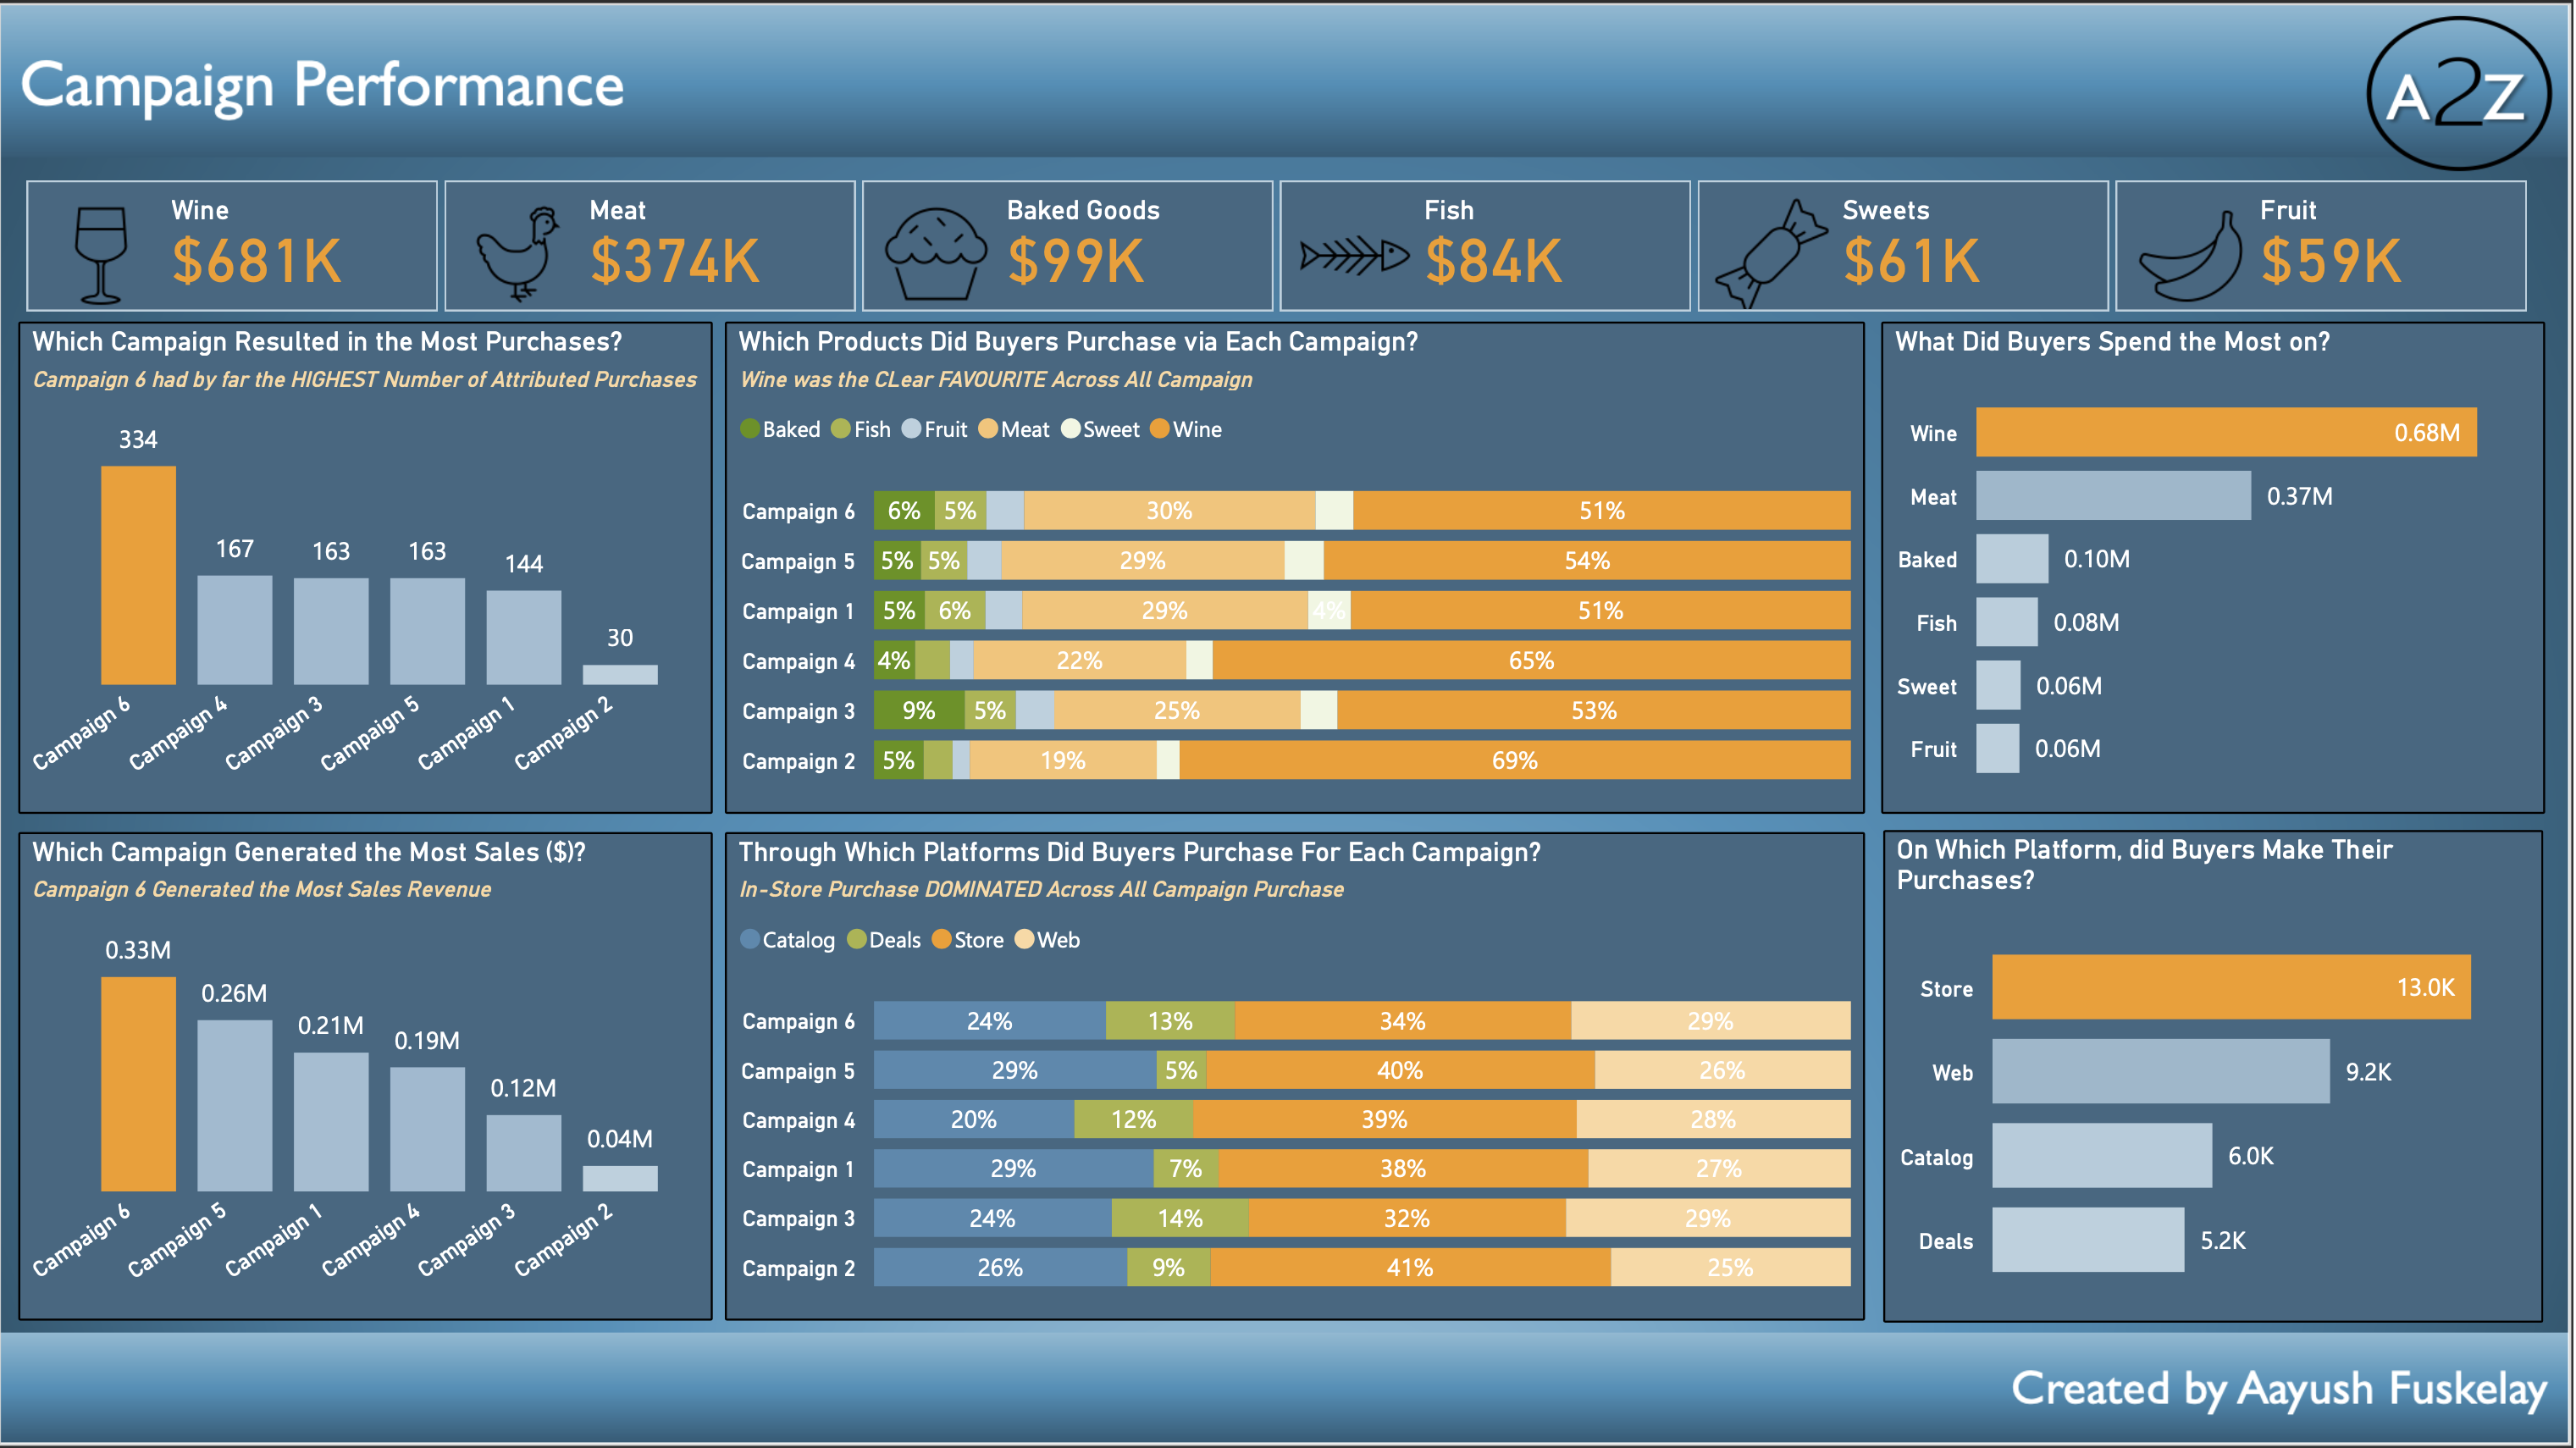

What the dashboard file says about the page in this screenshot:
{"tool":"powerbi","page":{"name":"Campaign Performance","canvas":[1280,720],"ordinal":0},"visuals":[{"type":"clusteredColumnChart","title":"Which Campaign Resulted in the Most Purchases?","fields":{"Category":["campaigns.Campaign"],"Y":["CountNonNull(campaigns.ID)"]},"box":[13.9,162.3,344.4,243.5],"z":0},{"type":"clusteredColumnChart","title":"Which Campaign Generated the Most Sales ($)?","fields":{"Category":["campaigns.Campaign"],"Y":["Sum(products.Total Sales)"]},"box":[13.9,414.7,344.4,242.5],"z":1000},{"type":"hundredPercentStackedBarChart","title":"Which Products Did Buyers Purchase via Each Campaign?","fields":{"Category":["campaigns.Campaign"],"Series":["products.Products"],"Y":["Sum(products.Total Sales)"]},"box":[364.2,162.3,565.1,243.5],"z":2000},{"type":"hundredPercentStackedBarChart","title":"Through Which Platforms Did Buyers Purchase For Each Campaign?","fields":{"Category":["campaigns.Campaign"],"Series":["platform.Plaform"],"Y":["Sum(platform.Number_Click)"]},"box":[364.2,414.7,565.1,242.5],"z":3000},{"type":"barChart","title":"What Did Buyers Spend the Most on?","fields":{"Category":["products.Products"],"Y":["Sum(products.Total Sales)"]},"box":[937.2,162.3,328.6,243.5],"z":4000},{"type":"barChart","title":"On Which Platform, did Buyers Make Their Purchases?","fields":{"Category":["platform.Plaform"],"Y":["Sum(platform.Number_Click)"]},"box":[937.6,414.3,327.8,243.2],"z":5000},{"type":"cardVisual","fields":{"Data":["Sum(marketmindz_research_data.Amount_Wines_Product)","Sum(marketmindz_research_data.Amount_Meat_Product)","Sum(marketmindz_research_data.Amount_Baked_Product)","Sum(marketmindz_research_data.Amount_Fish_Product)","Sum(marketmindz_research_data.Amount_Sweet_Product)","Sum(marketmindz_research_data.Amount_Fruits_Product)"]},"box":[12.9,87.1,1252,75.2],"z":6000}]}

Visuals, with their boxes in screenshot pixels (x1, y1, x2, y2), scaled from the page's 1280x720 canvas onto the 2576x1448 screenshot:
"Which Campaign Resulted in the Most Purchases?" clusteredColumnChart: crop(28, 326, 721, 816)
"Which Campaign Generated the Most Sales ($)?" clusteredColumnChart: crop(28, 834, 721, 1322)
"Which Products Did Buyers Purchase via Each Campaign?" hundredPercentStackedBarChart: crop(733, 326, 1871, 816)
"Through Which Platforms Did Buyers Purchase For Each Campaign?" hundredPercentStackedBarChart: crop(733, 834, 1871, 1322)
"What Did Buyers Spend the Most on?" barChart: crop(1886, 326, 2547, 816)
"On Which Platform, did Buyers Make Their Purchases?" barChart: crop(1887, 833, 2546, 1323)
cardVisual - Sum(marketmindz_research_data.Amount_Wines_Product) x Sum(marketmindz_research_data.Amount_Meat_Product): crop(26, 175, 2546, 326)
